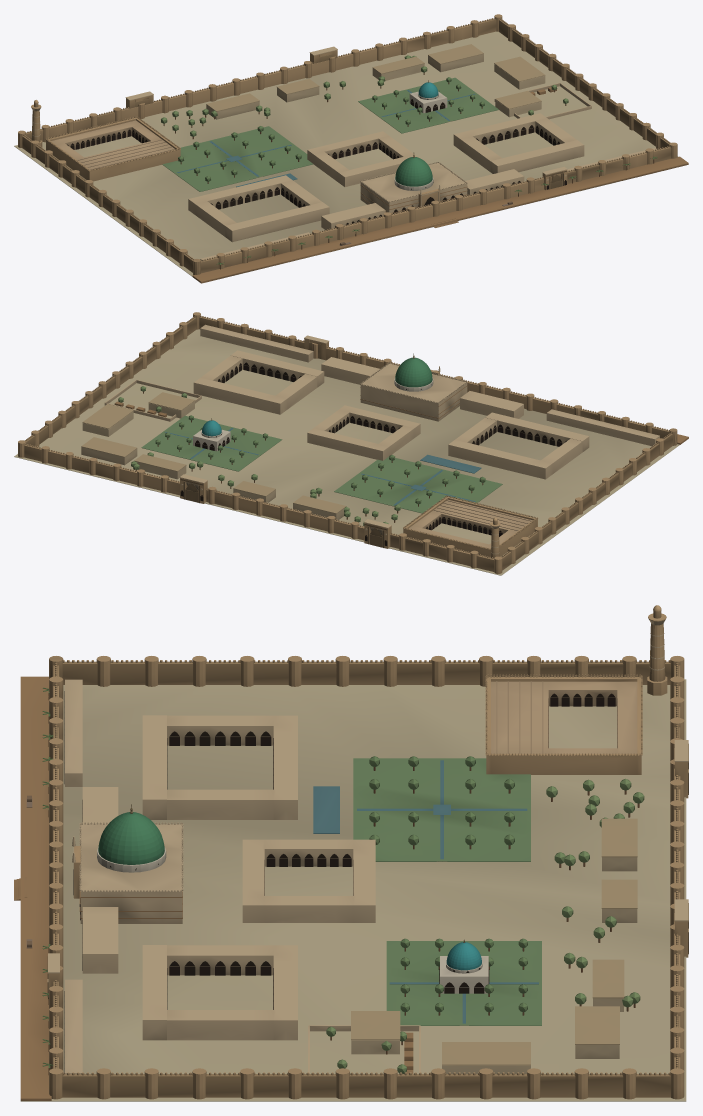
Rendered from dar-al-khilafa.glb.
The picture shows the model from 3 angles, top to bottom: view 1: azimuth 30°, elevation 25°; view 2: azimuth 150°, elevation 25°; view 3: azimuth 270°, elevation 25°; orthographic projection. The views are drawn at different scales.
Parts seen in each view (by area): view 1: p0_ground, p2_palaces, p1_walls, p3_domes and gardens; view 2: p0_ground, p2_palaces, p1_walls, p3_domes and gardens; view 3: p0_ground, p2_palaces, p3_domes and gardens, p1_walls.
Part boxes in pixels (left/top/right/bottom): p0_ground: left=14, top=31, right=688, bottom=283; p2_palaces: left=45, top=44, right=584, bottom=242; p1_walls: left=18, top=14, right=677, bottom=275; p3_domes and gardens: left=31, top=55, right=657, bottom=267; p0_ground: left=14, top=329, right=688, bottom=575; p2_palaces: left=81, top=350, right=589, bottom=557; p1_walls: left=18, top=312, right=677, bottom=573; p3_domes and gardens: left=104, top=324, right=659, bottom=558; p0_ground: left=20, top=676, right=686, bottom=1101; p2_palaces: left=72, top=674, right=642, bottom=1073; p3_domes and gardens: left=26, top=605, right=667, bottom=1074; p1_walls: left=14, top=656, right=688, bottom=1099.
Bounding box in the file's own units: 450 × 43.83 × 304.
